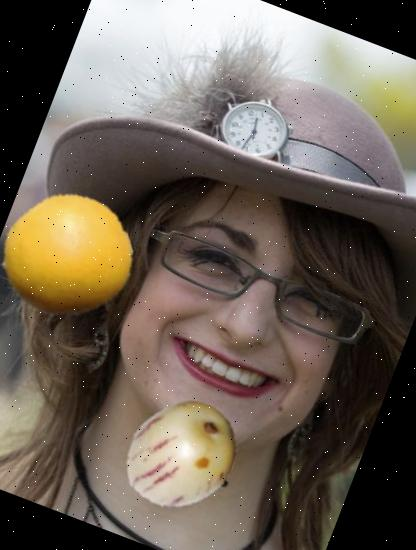Grapefruit: (0, 170, 151, 342)
Pepino: (108, 381, 256, 528)
